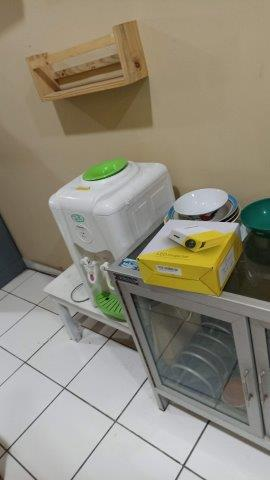kardus: (137, 219, 242, 295)
